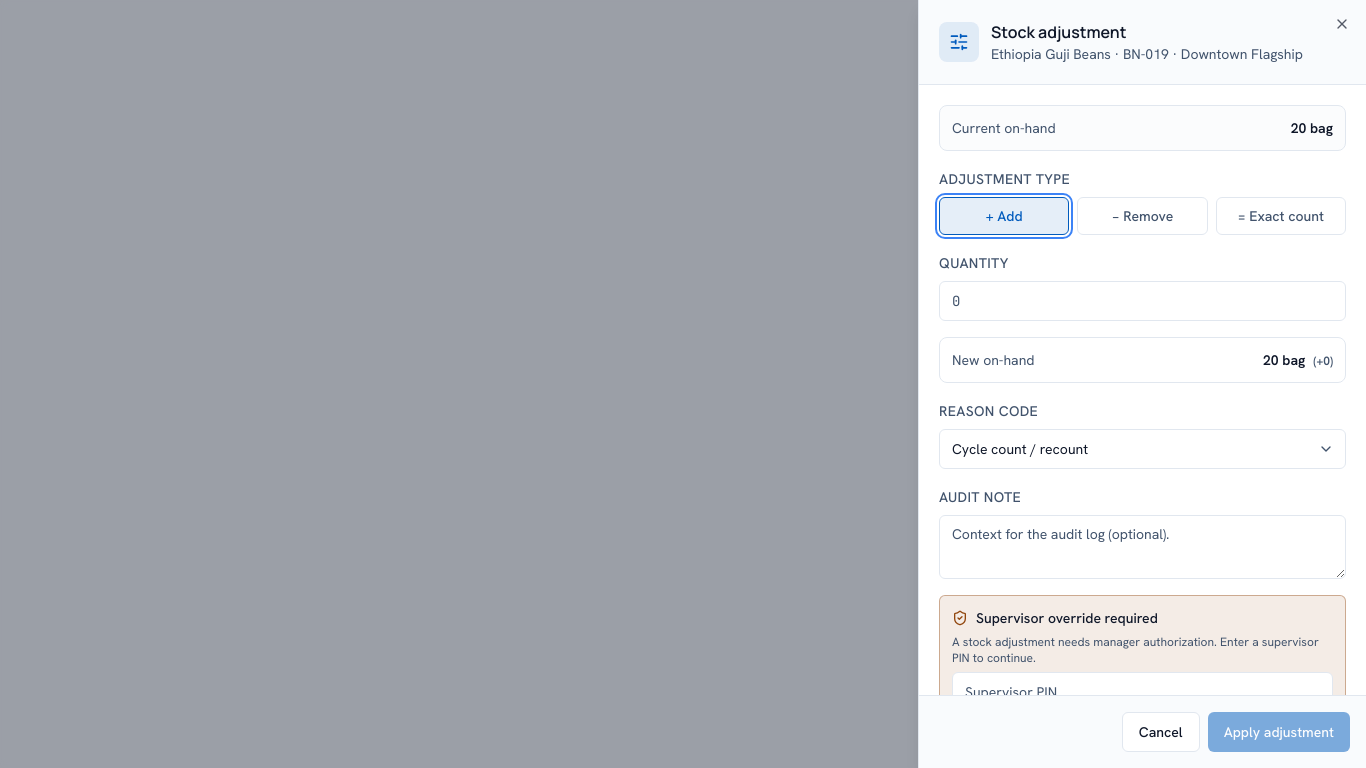
Scenario: AdjustmentDrawer › gates apply on quantity + supervisor PIN and previews the new balance
Expected: the button "Apply adjustment" is disabled, x1=1208 y1=712 x2=1350 y2=752
Type "5" into the field labelled "Quantity" at (1142, 301), box x1=939 y1=281 x2=1346 y2=321
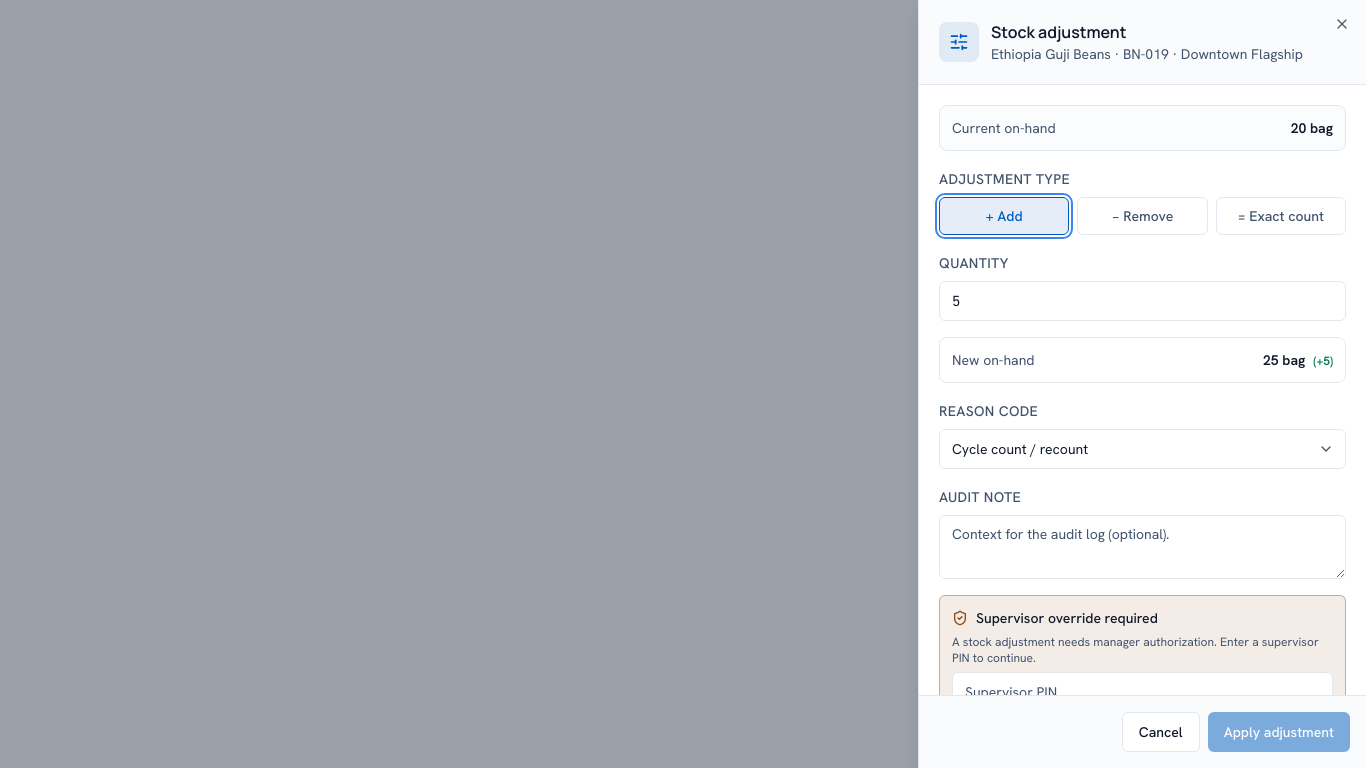
Expected: the button "Apply adjustment" is disabled, x1=1208 y1=712 x2=1350 y2=752
Result: the text "(+5)" is shown at x1=1313 y1=353 x2=1333 y2=369
Type "1234" into the password field with placeholder "Supervisor PIN" at (1142, 692), box x1=952 y1=672 x2=1333 y2=712
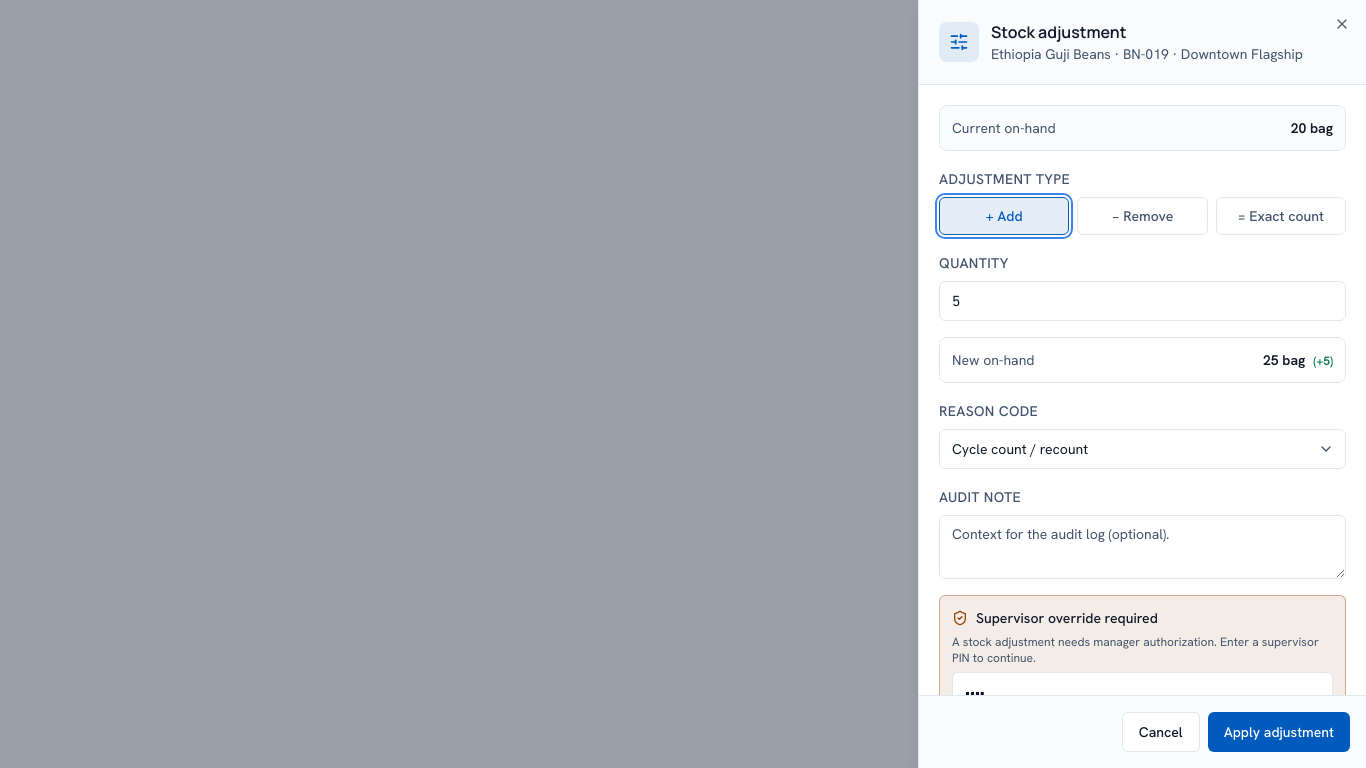
Result: the button "Apply adjustment" is enabled at x1=1208 y1=712 x2=1350 y2=752
